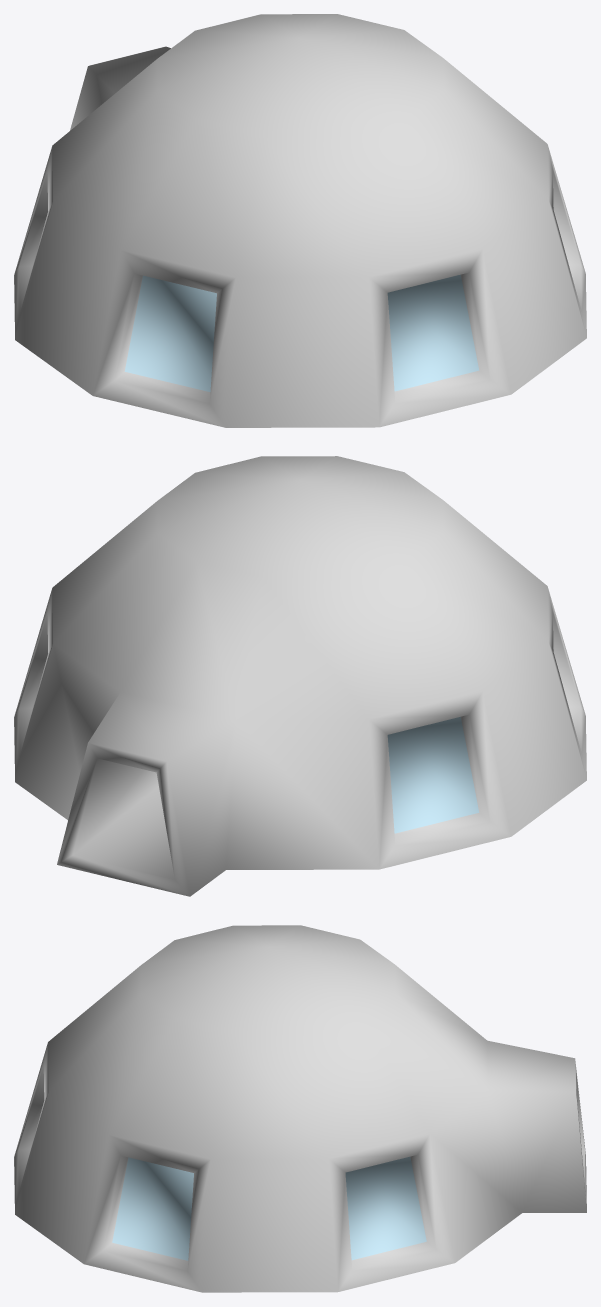
Rendered from igloo.dae.
3 renders of one model, top to bottom at view 1: azimuth 30°, elevation 25°; view 2: azimuth 150°, elevation 25°; view 3: azimuth 270°, elevation 25°, orthographic. The views are drawn at different scales.
Visible parts, largest first — view 1: Sphere; view 2: Sphere; view 3: Sphere.
Boxes of the visible parts, box(x1,y1,x2,y2) form: Sphere: box(14, 14, 586, 427); Sphere: box(14, 456, 586, 896); Sphere: box(14, 925, 586, 1292).
Size of the model in its own units: 216 by 112 by 244.
